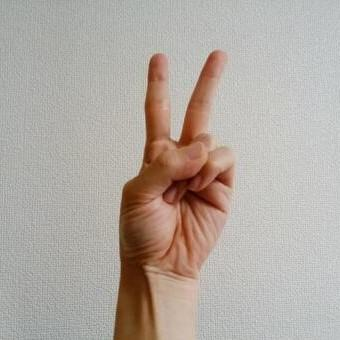tyoki: (117, 49, 236, 269)
